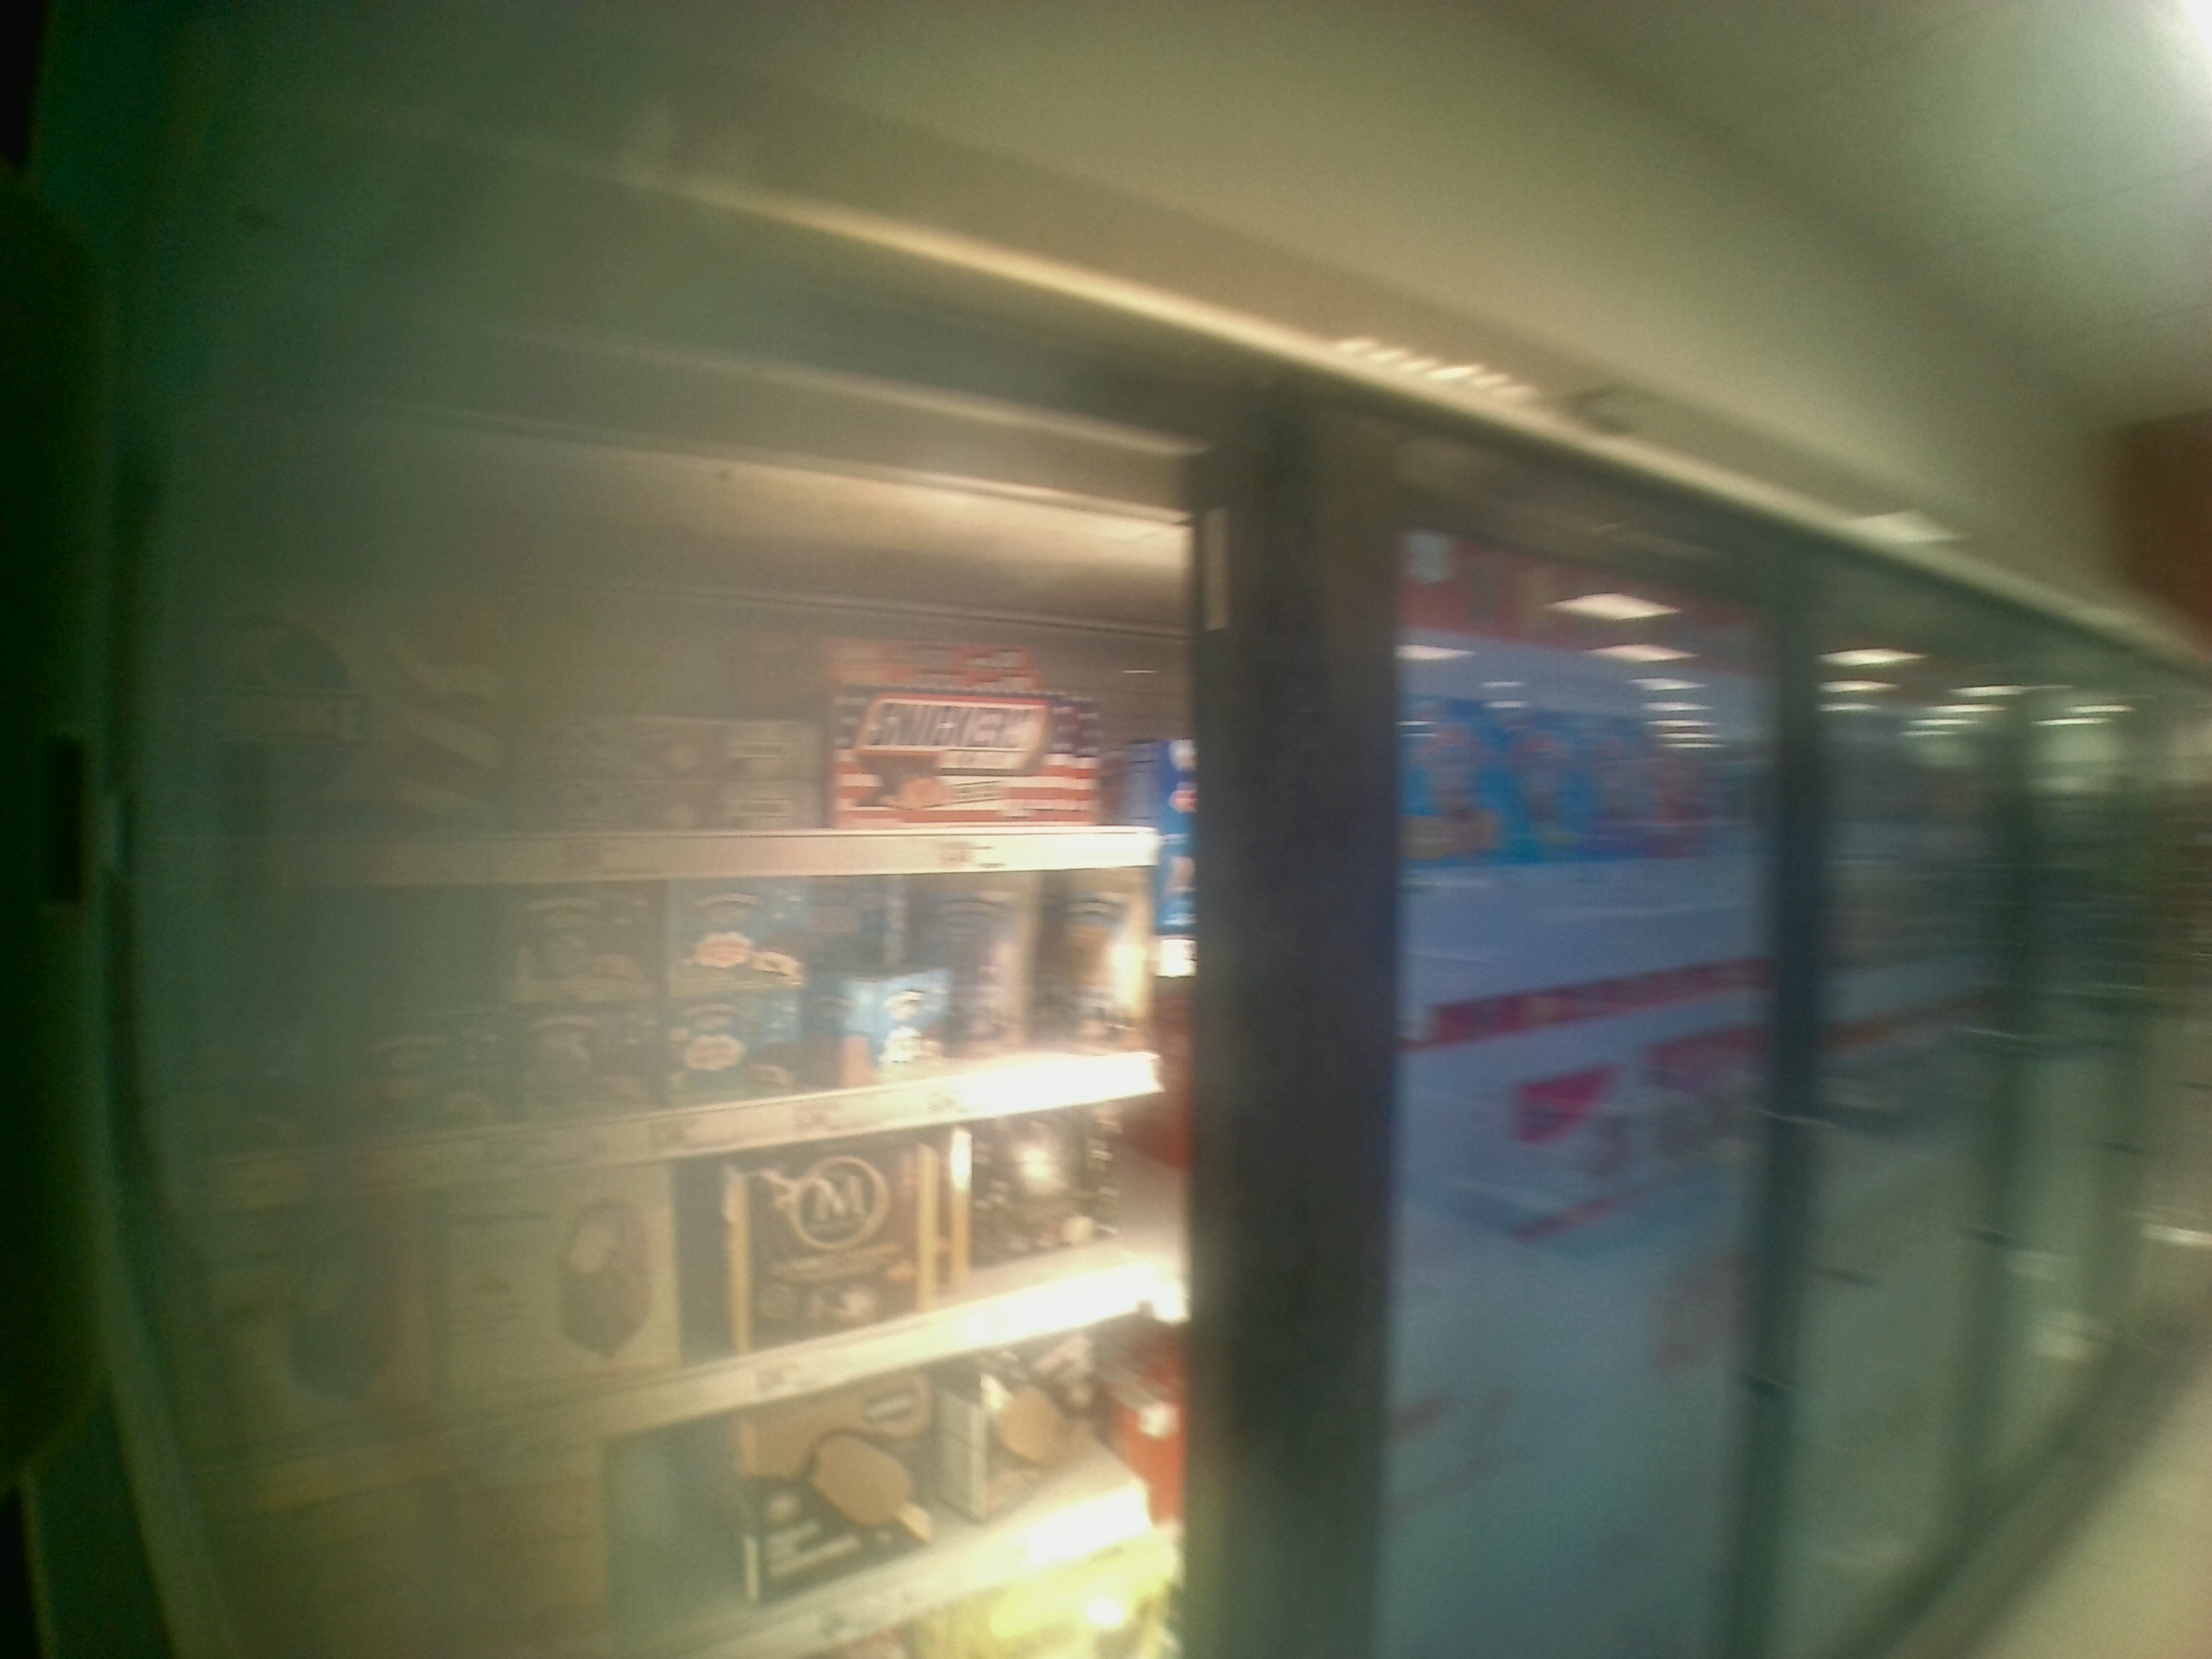shelf: (139, 507, 1188, 877), (127, 877, 1183, 1208)
